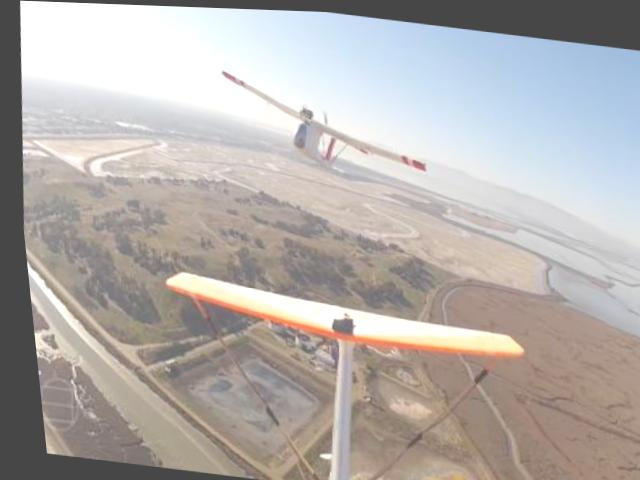uav: (209, 61, 437, 188)
